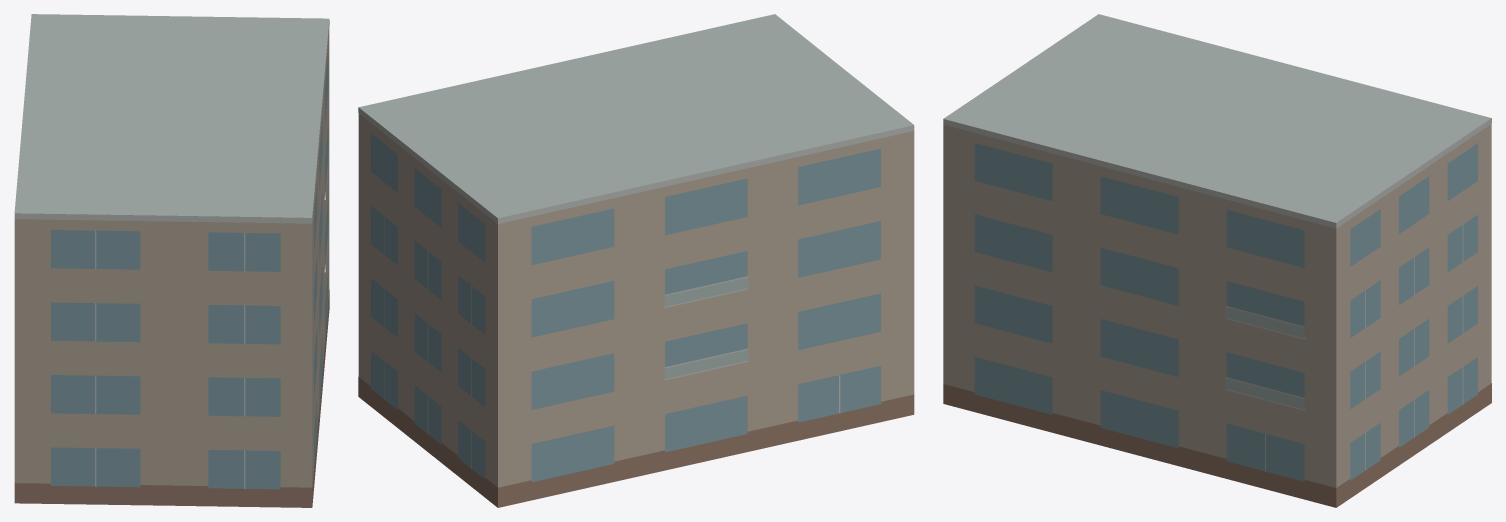
Rendered from residential-cd9c09d3-fbe2-451c-a0b3-dff40cf10a2b.glb.
The picture shows the model from 3 angles, left to right: view 1: azimuth 30°, elevation 25°; view 2: azimuth 150°, elevation 25°; view 3: azimuth 270°, elevation 25°; orthographic projection.
Parts seen in each view (by area): view 1: residential-cd9c09d3-fbe2-451c-a0b3-dff40cf10a2b.tmp; view 2: residential-cd9c09d3-fbe2-451c-a0b3-dff40cf10a2b.tmp; view 3: residential-cd9c09d3-fbe2-451c-a0b3-dff40cf10a2b.tmp.
Boxes of the visible parts, <box> form: residential-cd9c09d3-fbe2-451c-a0b3-dff40cf10a2b.tmp: <box>14,14,329,507</box>; residential-cd9c09d3-fbe2-451c-a0b3-dff40cf10a2b.tmp: <box>358,14,914,507</box>; residential-cd9c09d3-fbe2-451c-a0b3-dff40cf10a2b.tmp: <box>943,14,1491,507</box>.
Bounding box in the file's own units: 19.2 × 12.2 × 21.29.
